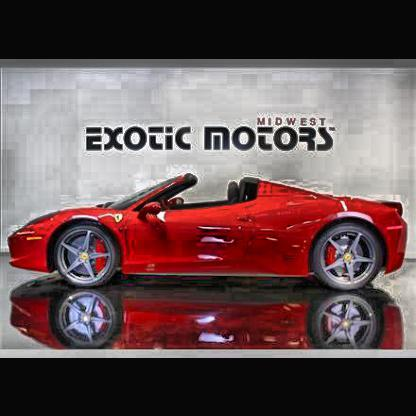Ferrari 458 Italia Convertible 2012: (10, 174, 408, 288)
